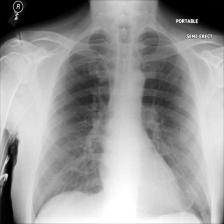normal: (27, 23, 215, 224)
